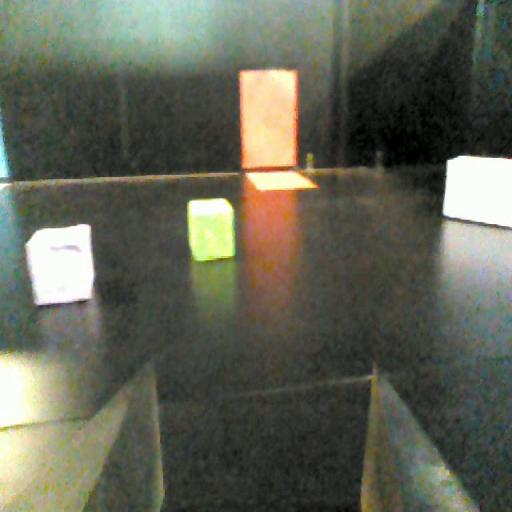cube: (22, 224, 96, 310), (183, 197, 241, 264)
